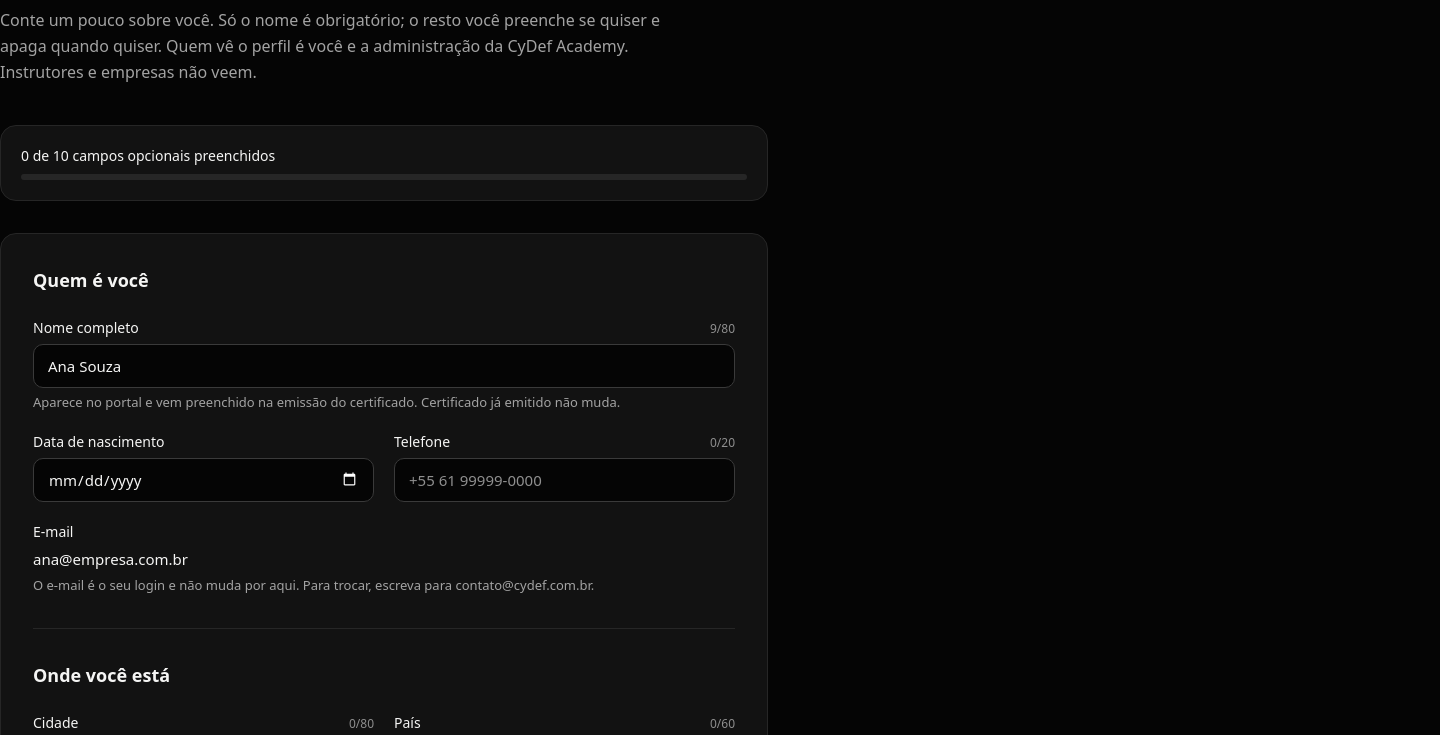
Test: Meu perfil › mostra o e-mail só para leitura, conta os campos e salva o perfil inteiro
The image size is (1440, 735).
Expected: the text "ana@empresa.com.br" is shown, top-left (33, 549), bottom-right (188, 569)
Expected: the text "0 de 10 campos opcionais preenchidos" is shown, top-left (21, 146), bottom-right (275, 165)
Replace the text in the field labelled "Nome completo" with "Ana Maria Souza". click: (384, 366)
box: top-left (33, 344), bottom-right (735, 388)
(page scrolled)
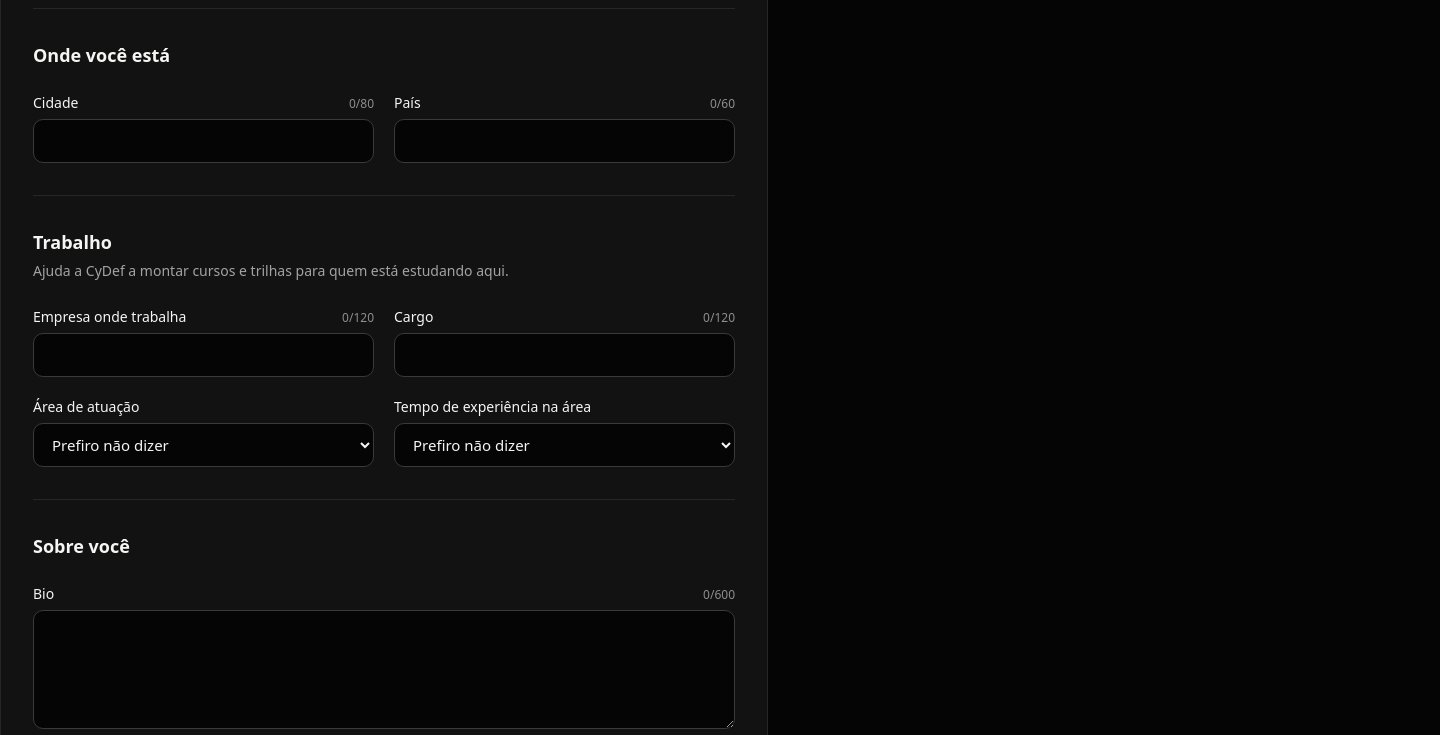
Type "Empresa X" into the field labelled "Empresa onde trabalha". click: (204, 355)
box: top-left (33, 333), bottom-right (374, 377)
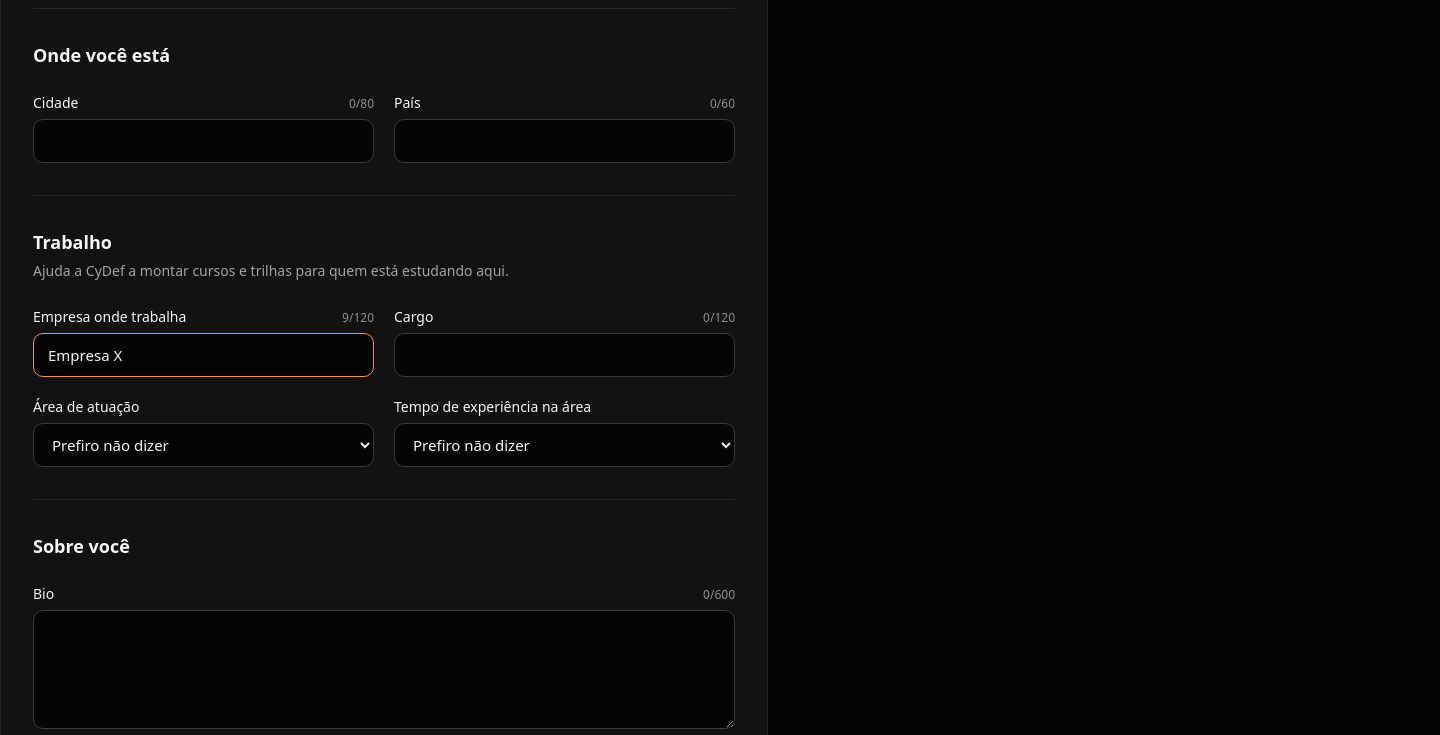
Select "Segurança da informação" in the dropdown labelled "Área de atuação". click: (204, 445)
box: top-left (33, 423), bottom-right (374, 467)
(page scrolled)
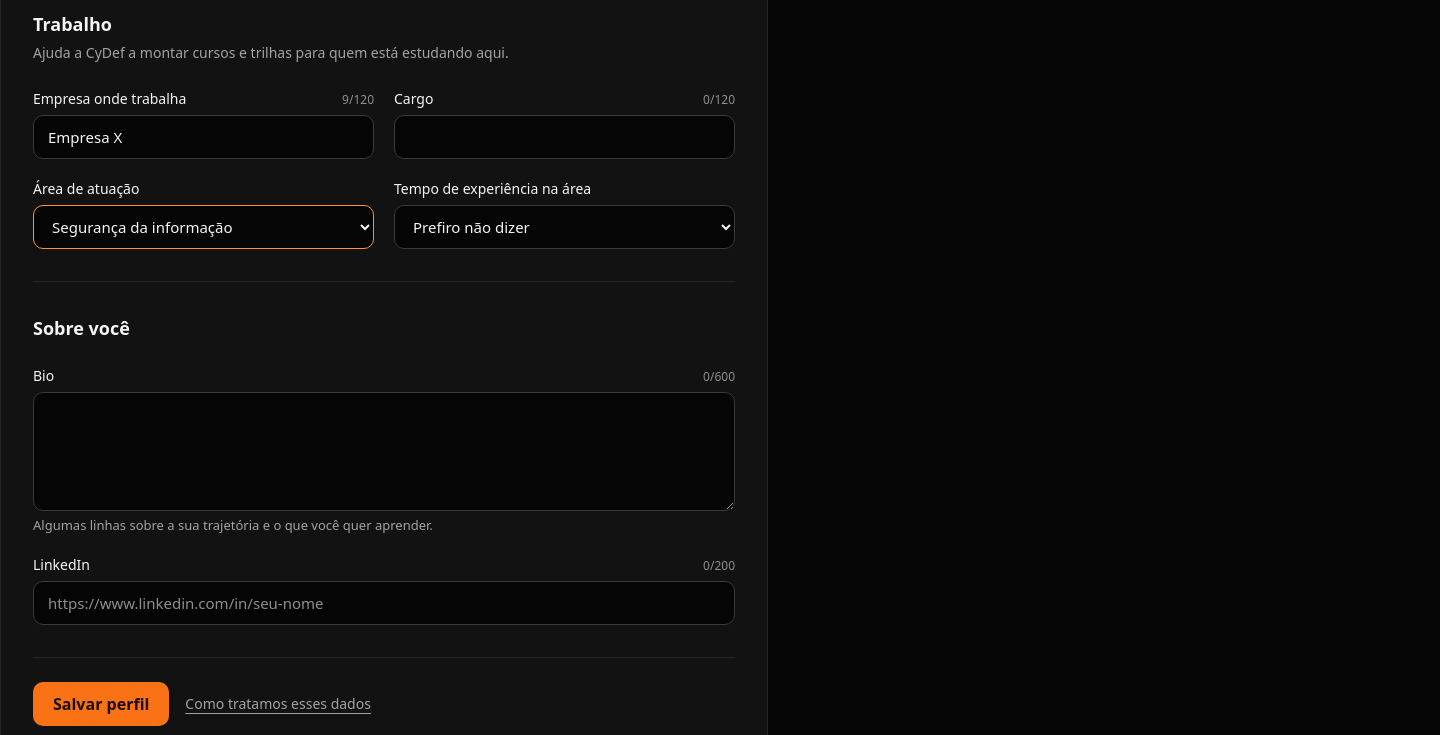
Click the button "Salvar perfil". click: (101, 704)
box: top-left (33, 682), bottom-right (169, 726)
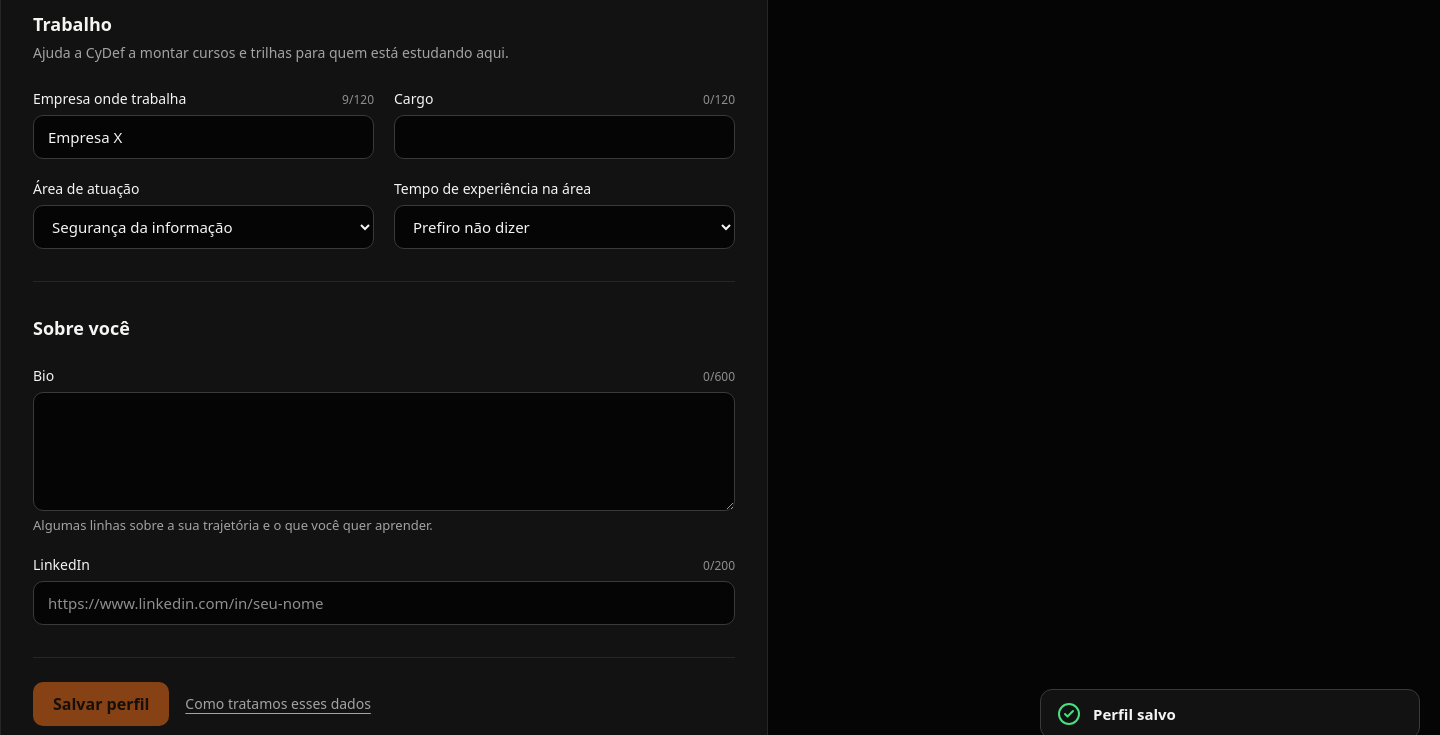
Expected: the text "Perfil salvo" is shown, top-left (1093, 703), bottom-right (1176, 725)
